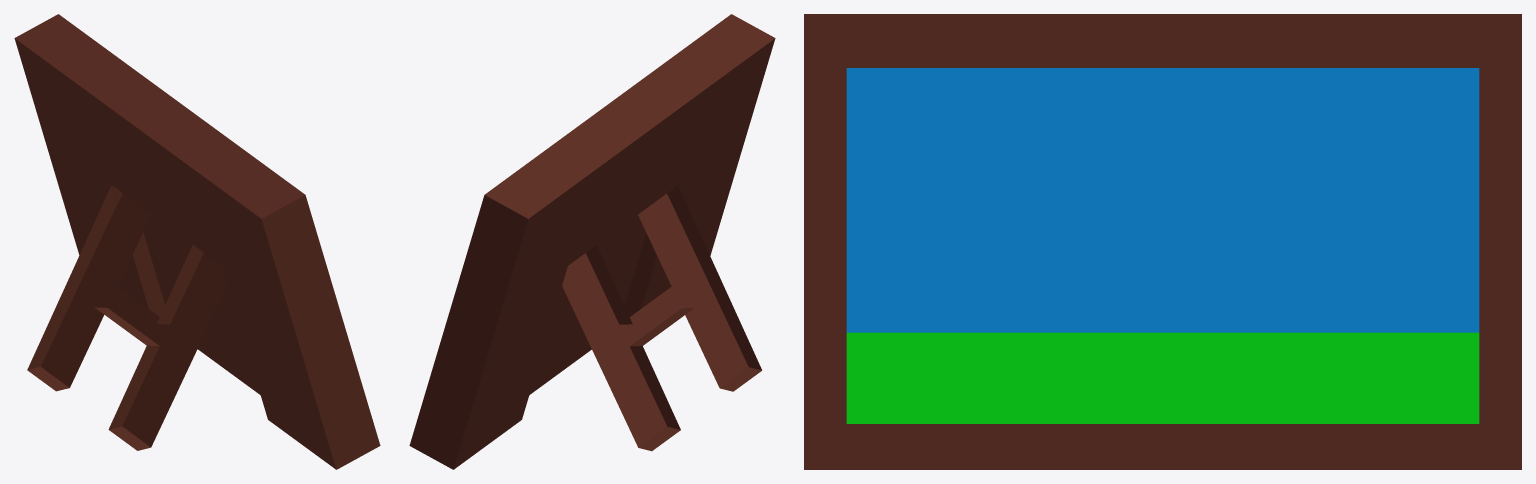
File: picture_frame.fbx
3 views of the same model, side by side, from view 1: azimuth 30°, elevation 25°; view 2: azimuth 150°, elevation 25°; view 3: azimuth 270°, elevation 25° (orthographic). The views are drawn at different scales.
Visible parts, largest first — view 1: Picture Frame; view 2: Picture Frame; view 3: Picture Frame.
Part boxes in pixels (left/top/right/bottom): Picture Frame: left=14, top=14, right=380, bottom=469; Picture Frame: left=409, top=14, right=775, bottom=469; Picture Frame: left=804, top=14, right=1521, bottom=469.
Size of the model in its own units: 98.52 by 153 by 242.
